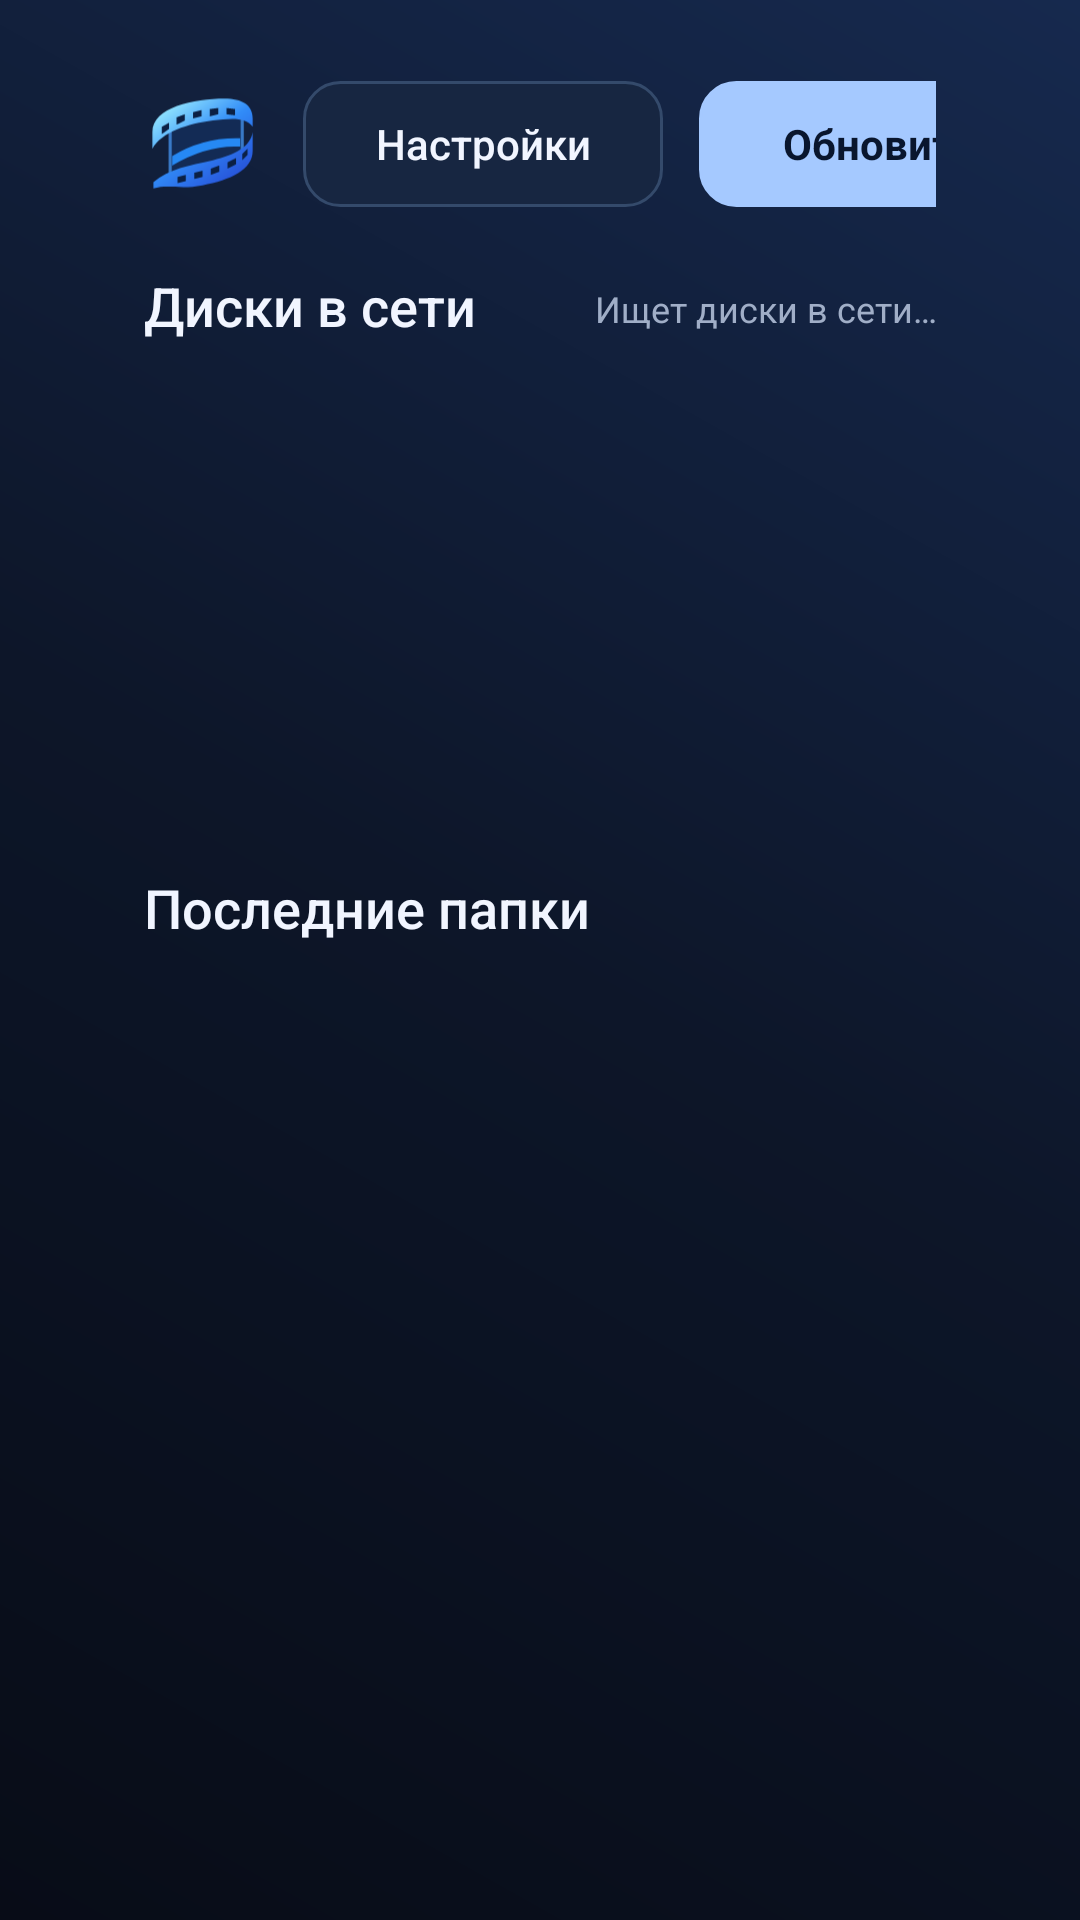

Point at icon controls on the screen. Image size 1080px×1920px, points as point (x, y).
brand mark: point (202, 143)
